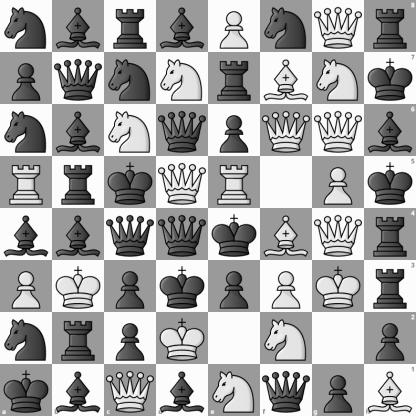B: (364, 364, 416, 416), (261, 53, 312, 104), (261, 209, 312, 260)
K: (53, 261, 104, 312), (157, 313, 208, 364), (313, 261, 364, 312)
N: (209, 364, 260, 416), (105, 105, 156, 156), (157, 53, 208, 104), (261, 313, 312, 364), (313, 53, 364, 104)
P: (1, 261, 52, 312), (209, 1, 260, 52), (261, 261, 312, 312), (313, 157, 364, 208)
Q: (104, 364, 156, 416), (157, 157, 208, 208), (261, 105, 312, 156), (313, 1, 364, 52), (313, 105, 364, 156), (313, 209, 364, 260)
R: (1, 157, 52, 208), (209, 157, 260, 208)
b: (156, 364, 209, 416), (52, 364, 104, 416), (364, 104, 416, 156), (1, 209, 52, 260), (53, 1, 104, 52), (53, 105, 104, 156), (53, 209, 104, 260), (157, 1, 208, 52)
board: (0, 0, 415, 415)
k: (364, 156, 416, 209), (0, 364, 52, 416), (364, 52, 416, 104), (105, 157, 156, 208), (157, 261, 208, 312), (209, 209, 260, 260)
n: (1, 1, 52, 52), (1, 105, 52, 156), (1, 313, 52, 364), (105, 53, 156, 104), (261, 1, 312, 52)
p: (312, 364, 364, 416), (364, 312, 416, 364), (1, 53, 52, 104), (105, 261, 156, 312), (105, 313, 156, 364), (209, 105, 260, 156), (209, 261, 260, 312)
q: (260, 364, 312, 416), (53, 53, 104, 104), (105, 209, 156, 260), (157, 105, 208, 156), (157, 209, 208, 260)
r: (364, 0, 416, 52), (364, 260, 416, 312), (364, 209, 416, 260), (53, 157, 104, 208), (53, 313, 104, 364), (105, 1, 156, 52), (209, 53, 260, 104)
